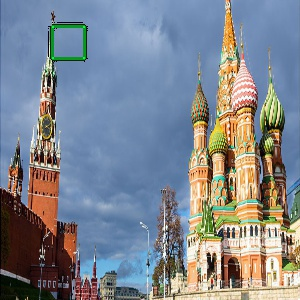square: (49, 23, 87, 61)
